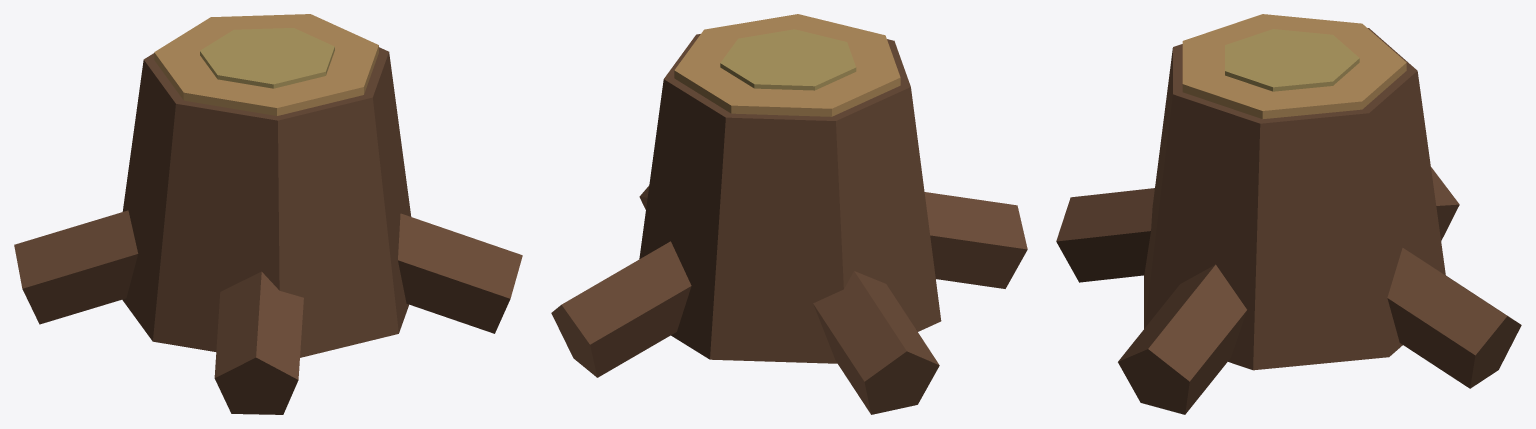
The model's file is Stump_B.fbx.
The picture shows the model from 3 angles, left to right: view 1: azimuth 30°, elevation 25°; view 2: azimuth 150°, elevation 25°; view 3: azimuth 270°, elevation 25°; orthographic projection.
Parts seen in each view (by area): view 1: Stump_B; view 2: Stump_B; view 3: Stump_B.
Boxes of the visible parts, x1,y1,x2,y2 form: Stump_B: (14,14,522,414); Stump_B: (551,14,1027,414); Stump_B: (1056,14,1521,414).
Bounding box in the file's own units: 0.7641 × 0.4859 × 0.7644.
Materials: 1 (1 with a texture image).
